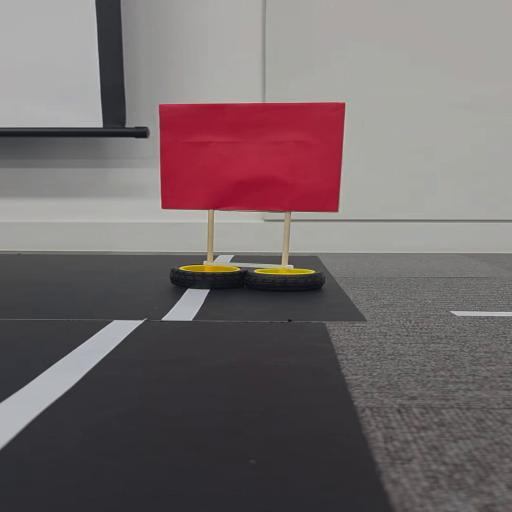Sign_A: (142, 99, 374, 294)
